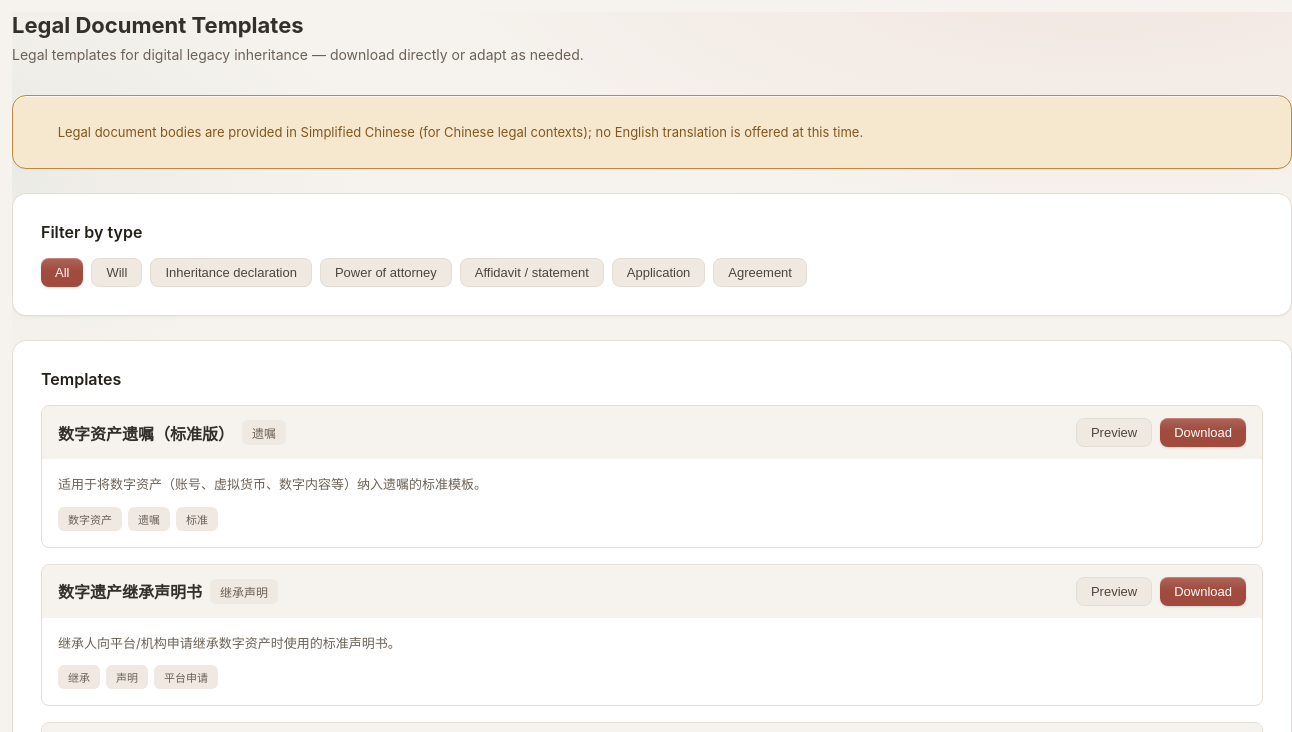
Test: 英文模式 › 切换英文后界面文案与筛选项变为英文，并显示中文正文提示条
Click the button "Will".
click(117, 272)  # box [92,258,142,287]
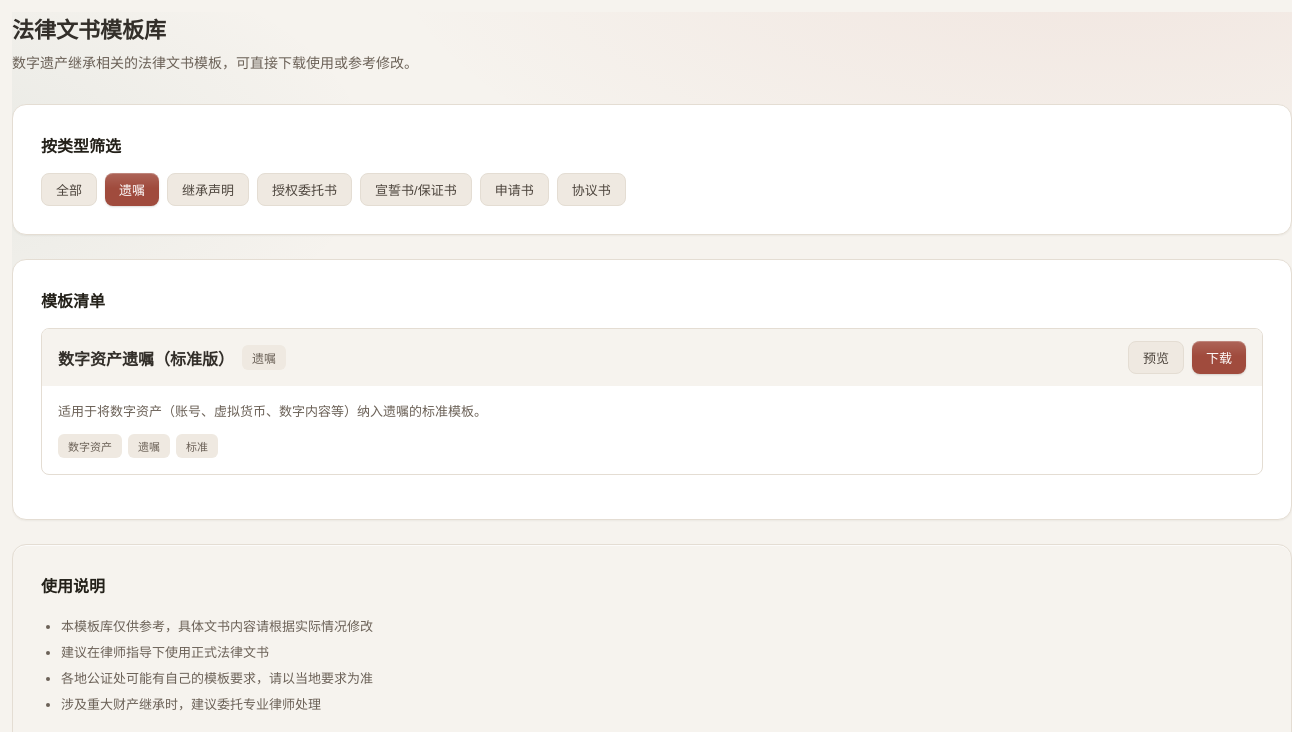
Expected: the text "数字资产遗嘱" is shown, [58,348,234,368]
Expected: the text "数字遗产继承声明书" is gone
